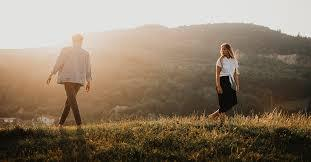Persons: (216, 41, 236, 59)
